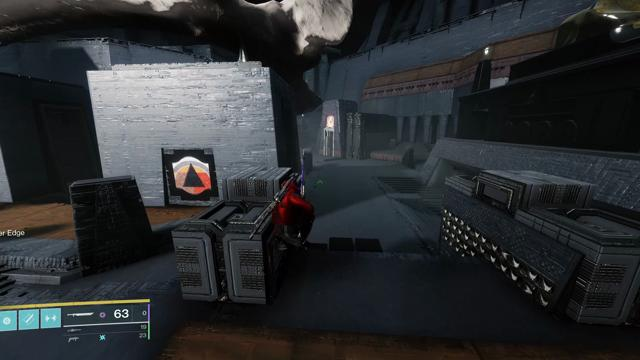pyramid: (172, 156, 211, 194)
